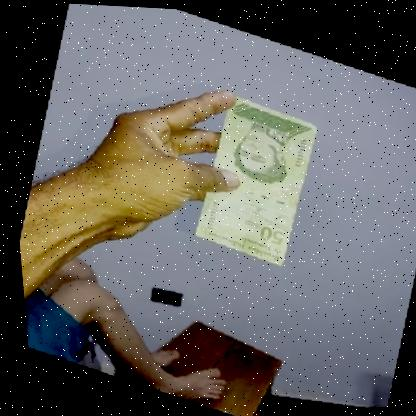fifty-front-vef: (180, 87, 326, 268)
